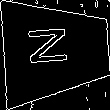N_E: (32, 29, 80, 73)
